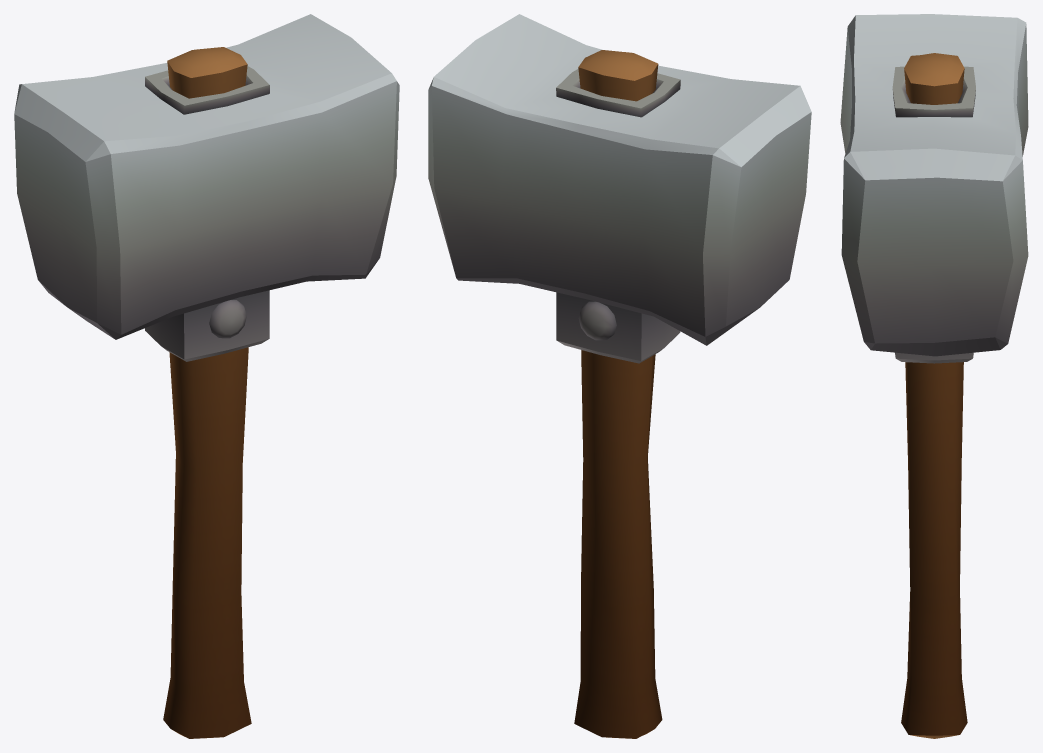
Rendered from Hammer_03.obj.
The picture shows the model from 3 angles, left to right: view 1: azimuth 30°, elevation 25°; view 2: azimuth 150°, elevation 25°; view 3: azimuth 270°, elevation 25°; orthographic projection.
Parts seen in each view (by area): view 1: Hammer_03; view 2: Hammer_03; view 3: Hammer_03.
Boxes of the visible parts, left/top/right/bottom form: Hammer_03: left=14, top=14, right=399, bottom=738; Hammer_03: left=428, top=14, right=811, bottom=738; Hammer_03: left=840, top=14, right=1028, bottom=738.
Size of the model in its own units: 0.509 by 1.03 by 0.263.
